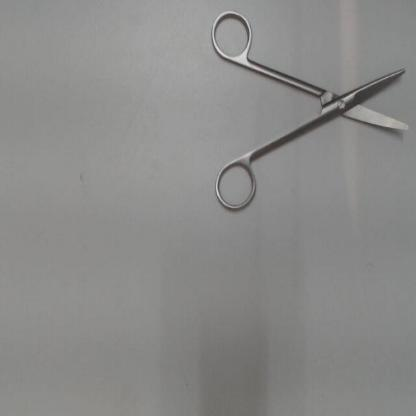Curved Mayo Scissors: (206, 5, 412, 220)
